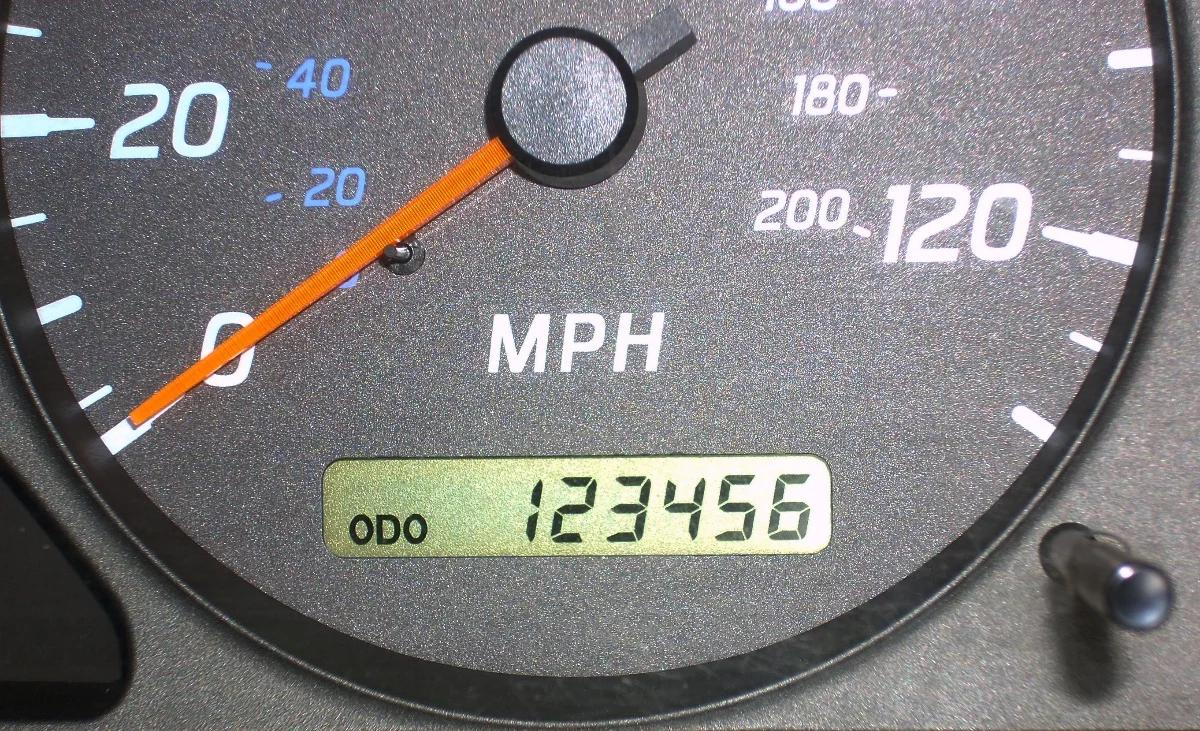odometer: (319, 456, 834, 559)
